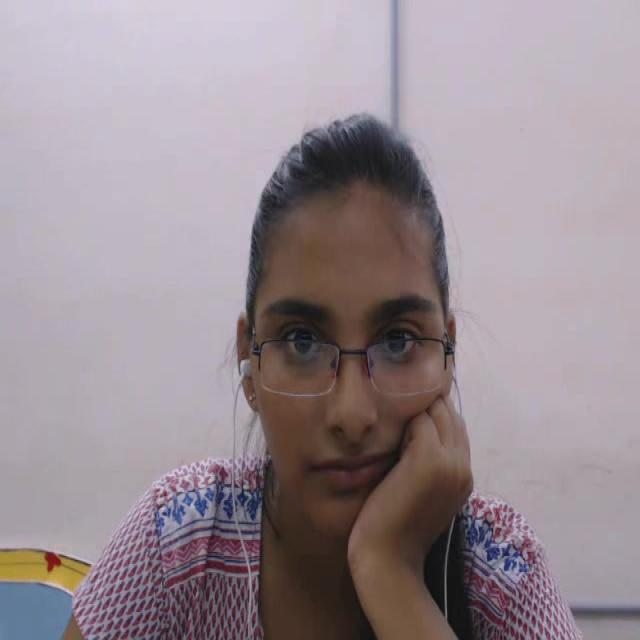Bored: (212, 73, 508, 558)
